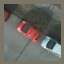car: (17, 17, 42, 43)
